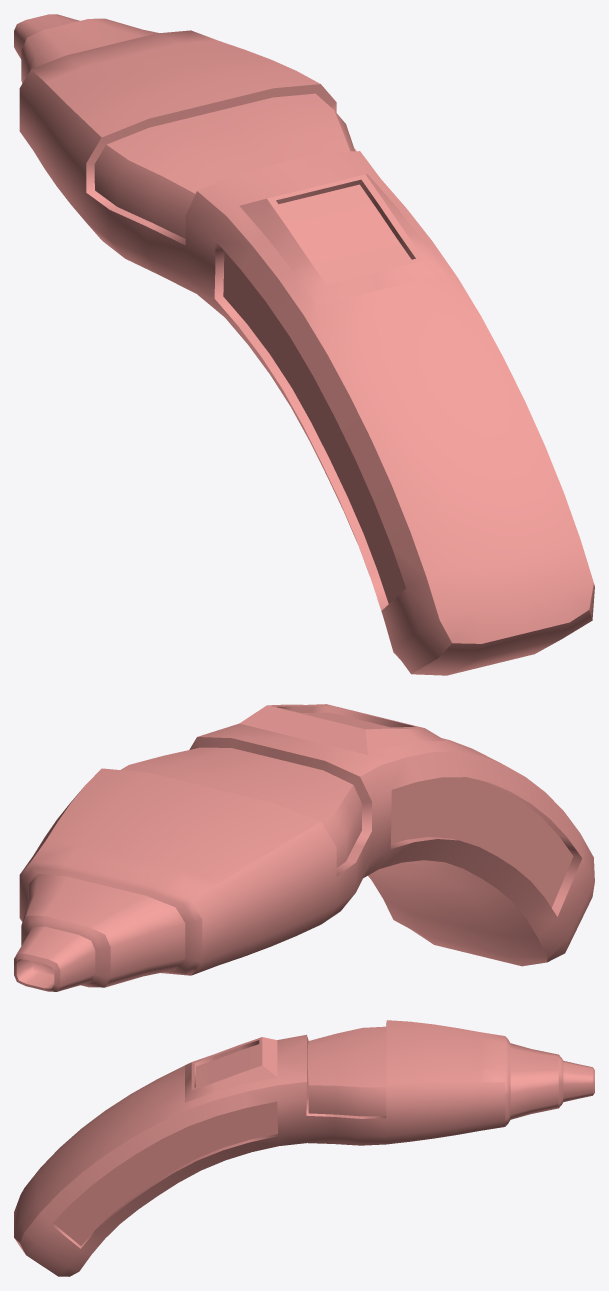
Rendered from Phaser Prefab 3.FBX.
3 views of the same model, one above another, from view 1: azimuth 30°, elevation 25°; view 2: azimuth 150°, elevation 25°; view 3: azimuth 270°, elevation 25° (orthographic). The views are drawn at different scales.
Parts seen in each view (by area): view 1: Type 1 Phaser001; view 2: Type 1 Phaser001; view 3: Type 1 Phaser001.
Boxes of the visible parts, box(x1,y1,x2,y2) form: Type 1 Phaser001: box(14, 14, 594, 675); Type 1 Phaser001: box(14, 704, 594, 991); Type 1 Phaser001: box(14, 1020, 594, 1276).
Size of the model in its own units: 33.59 by 46.51 by 114.
